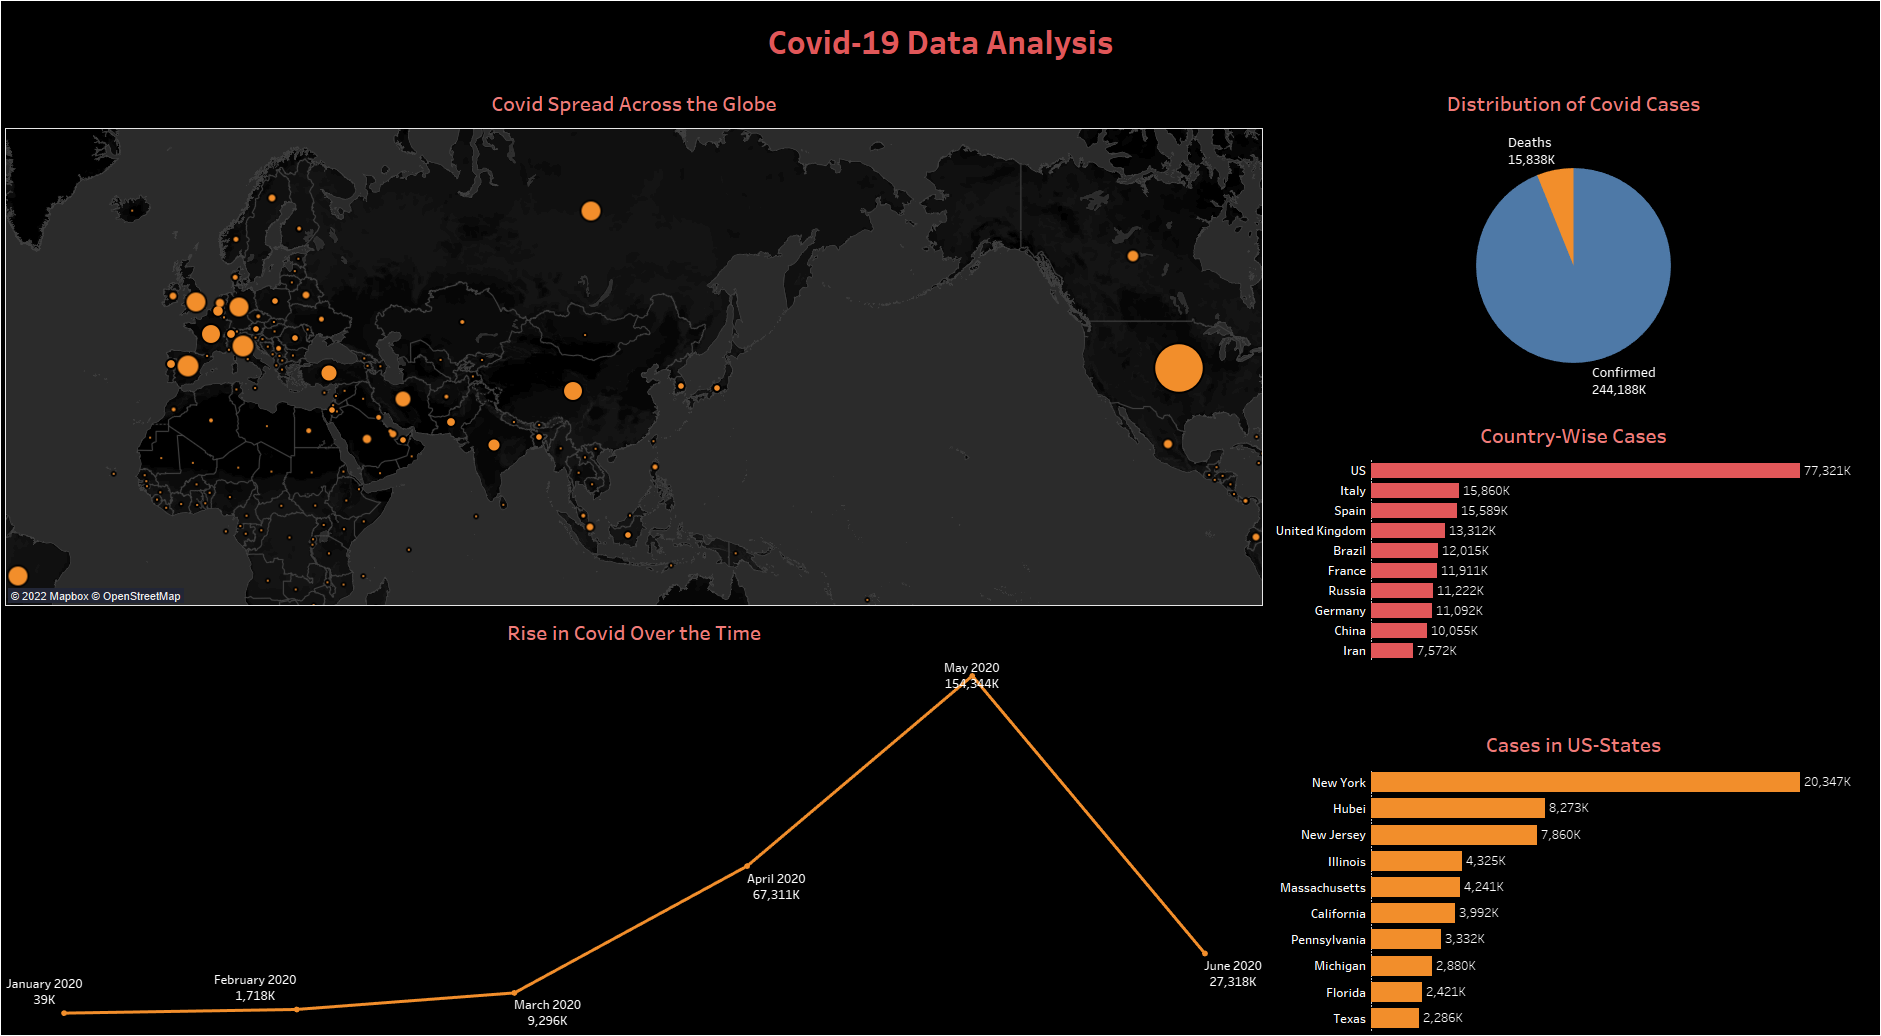

Layout of this report page (visuals, bound fields, positions):
{"tool":"tableau","page":{"name":"Dashboard 1","canvas":[1000,1000],"units":"permille","ordinal":0},"visuals":[{"type":"text","box":[5,9.9,990,75.6]},{"type":"worksheet","title":"Map","mark":"Automatic","box":[5,85.5,666.8,501.4]},{"type":"worksheet","title":"Sheet 4","mark":"Pie","box":[671.8,85.5,323.2,315.2]},{"type":"worksheet","title":"Sheet 5","mark":"Automatic","rows":["Country_Region"],"cols":["Cases"],"box":[671.8,400.8,323.2,293]},{"type":"worksheet","title":"Sheet 3","mark":"Automatic","rows":["Cases"],"cols":["Date"],"box":[5,586.9,666.8,403.1]},{"type":"worksheet","title":"Sheet 2","mark":"Automatic","rows":["Province_State"],"cols":["Cases"],"box":[671.8,693.7,323.2,296.4]}]}

Visuals, with their boxes on the dashboard's canvas, which has no fixed pixel size, in thousandths of its width and height (x1, y1, x2, y2). These are canvas units, not pixel positions in the 1881x1036 screenshot, which may show the page scaled, cropped or inside an application window:
text: (x1=5, y1=10, x2=995, y2=86)
"Map" worksheet: (x1=5, y1=86, x2=672, y2=587)
"Sheet 4" worksheet (Pie marks): (x1=672, y1=86, x2=995, y2=401)
"Sheet 5" worksheet: (x1=672, y1=401, x2=995, y2=694)
"Sheet 3" worksheet: (x1=5, y1=587, x2=672, y2=990)
"Sheet 2" worksheet: (x1=672, y1=694, x2=995, y2=990)
